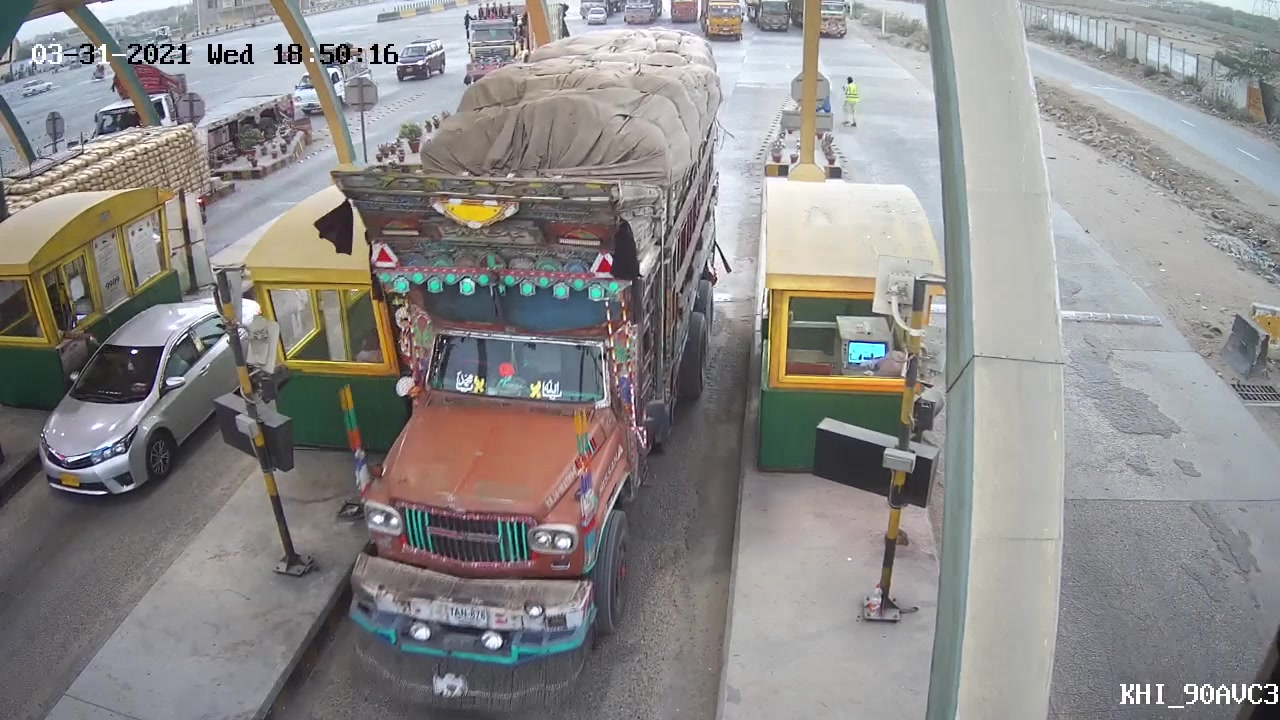F5: (316, 108, 743, 716)
